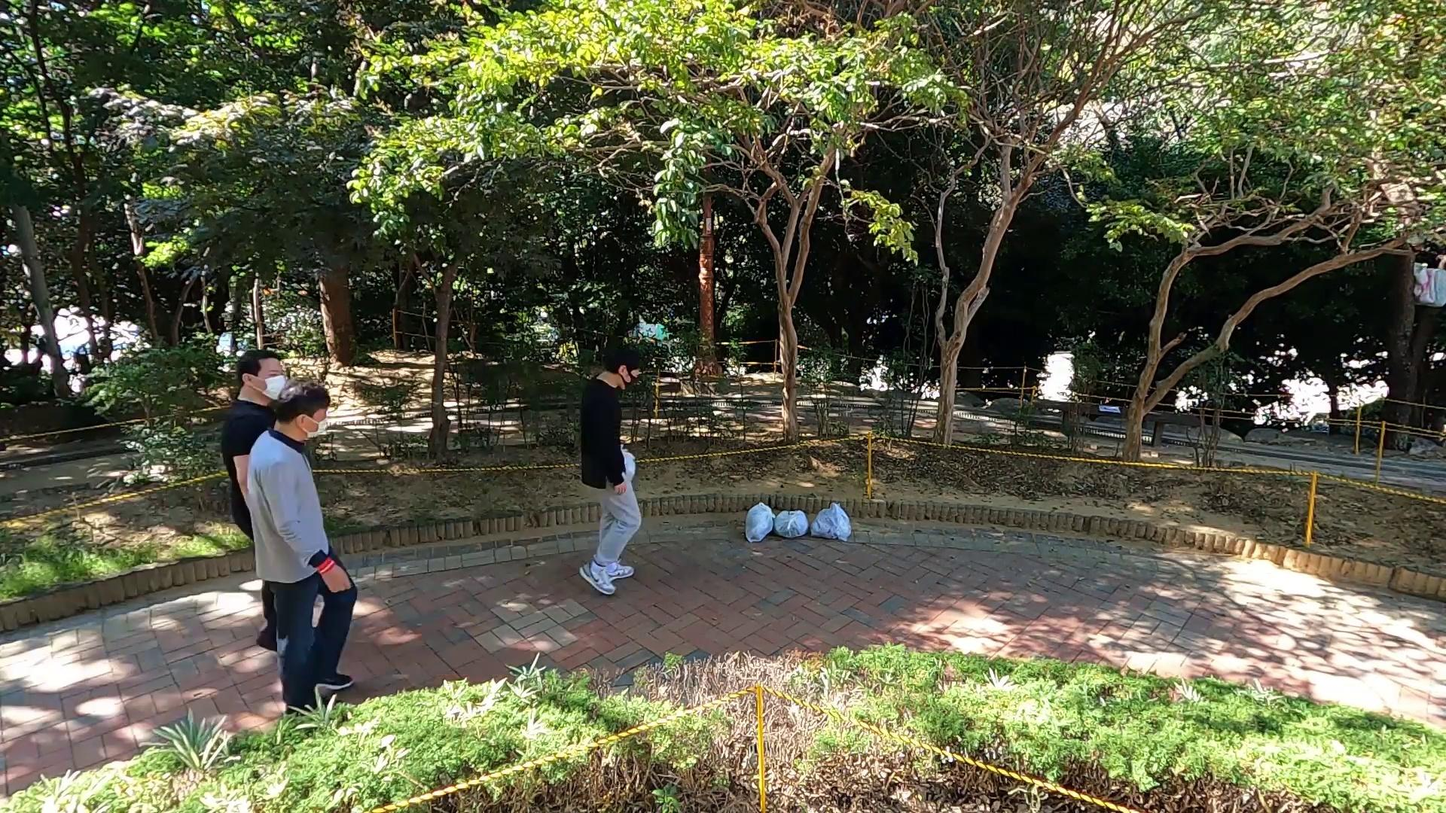person: (242, 382, 367, 726), (225, 350, 320, 652), (574, 342, 653, 597)
trash: (807, 503, 854, 546), (734, 505, 777, 544), (774, 508, 807, 545), (612, 445, 640, 486)
